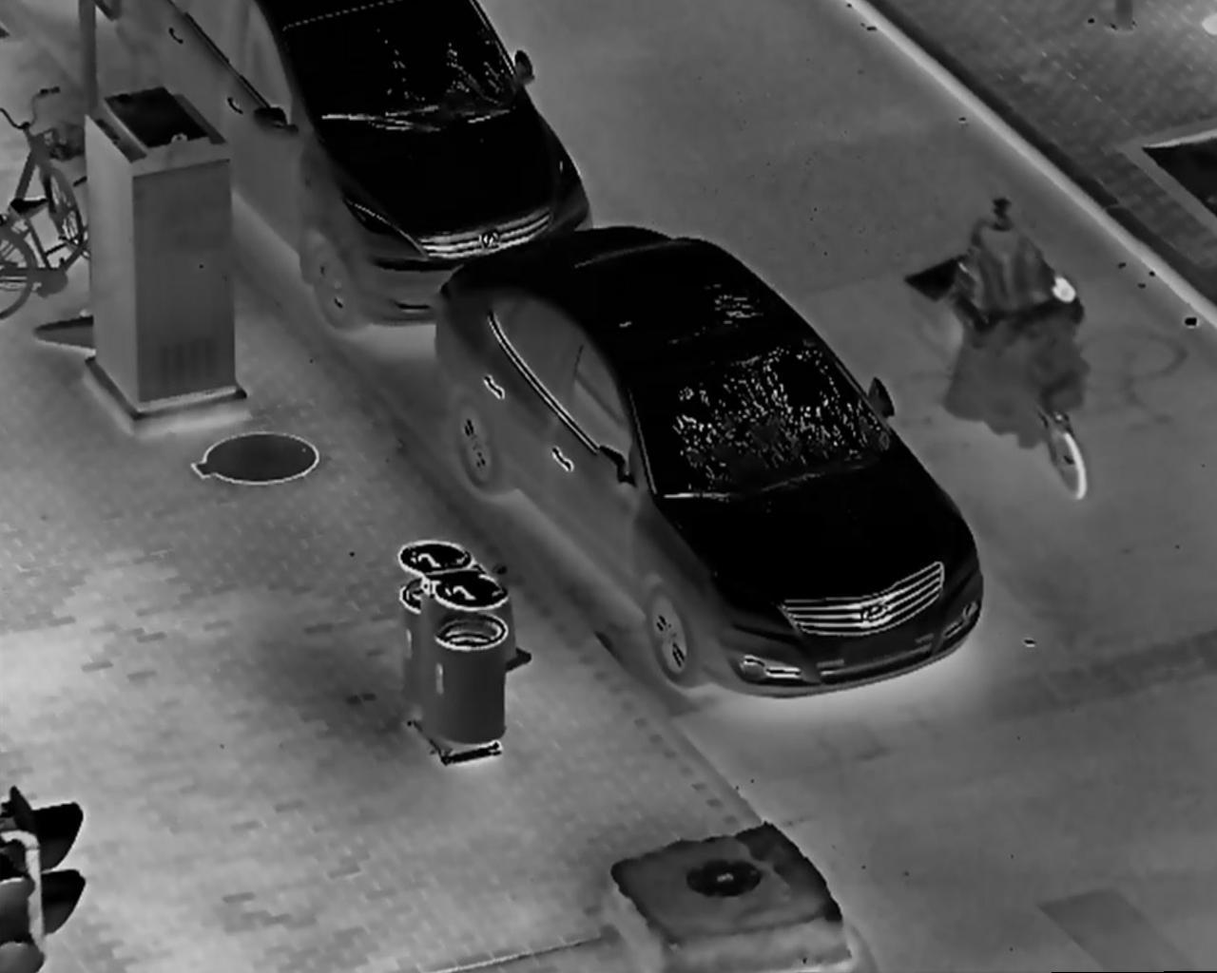person: (953, 195, 1084, 424)
